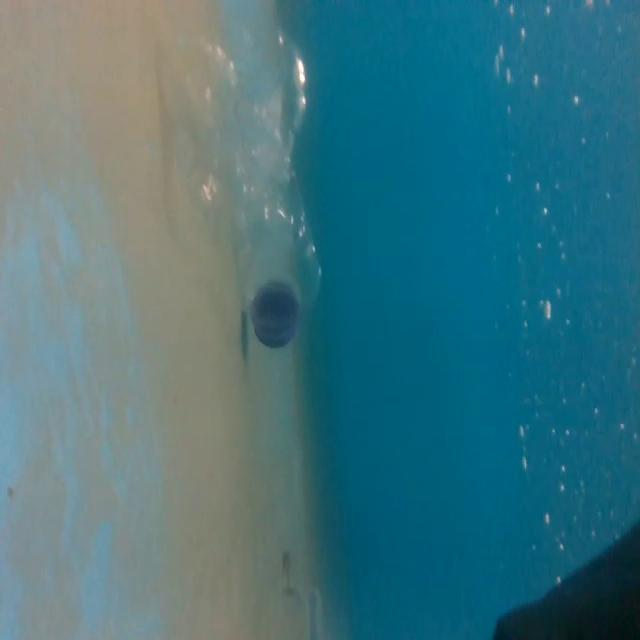plastic bottle: (173, 22, 339, 352)
